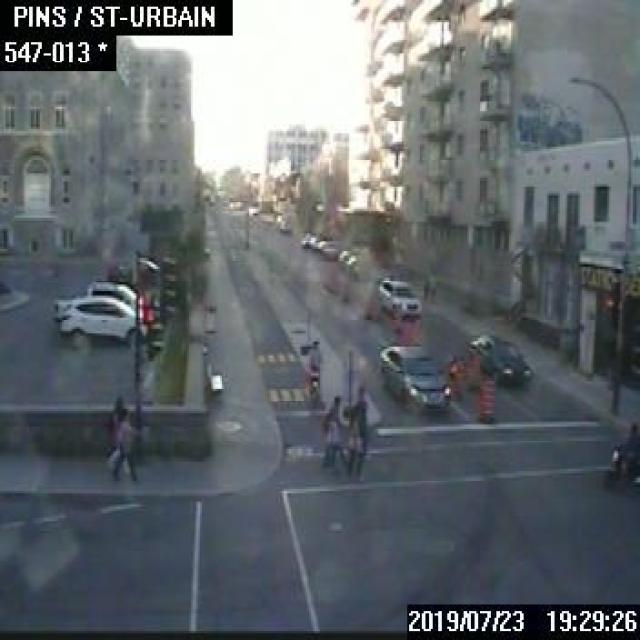construction: (476, 377, 495, 422), (464, 353, 478, 391), (402, 318, 414, 342)
cyclist: (304, 338, 320, 401)
pedestrian: (344, 397, 368, 477), (105, 394, 129, 472), (110, 406, 134, 480), (320, 394, 343, 466), (428, 273, 436, 302), (422, 270, 430, 296)
vehicle: (373, 342, 451, 413), (54, 294, 146, 341), (469, 333, 533, 387), (376, 276, 421, 320), (609, 422, 638, 489), (85, 279, 136, 306), (345, 252, 368, 276), (106, 263, 132, 280), (274, 211, 291, 231), (337, 248, 353, 266), (320, 242, 337, 258), (300, 233, 315, 246), (310, 236, 326, 248)
